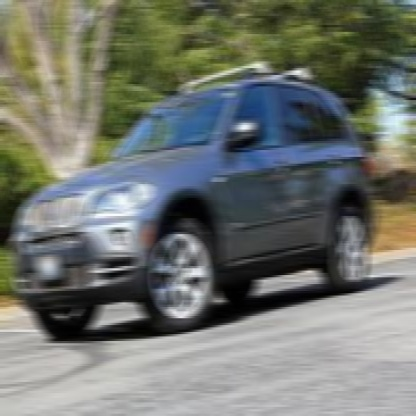Vehicle: (12, 61, 380, 344)
